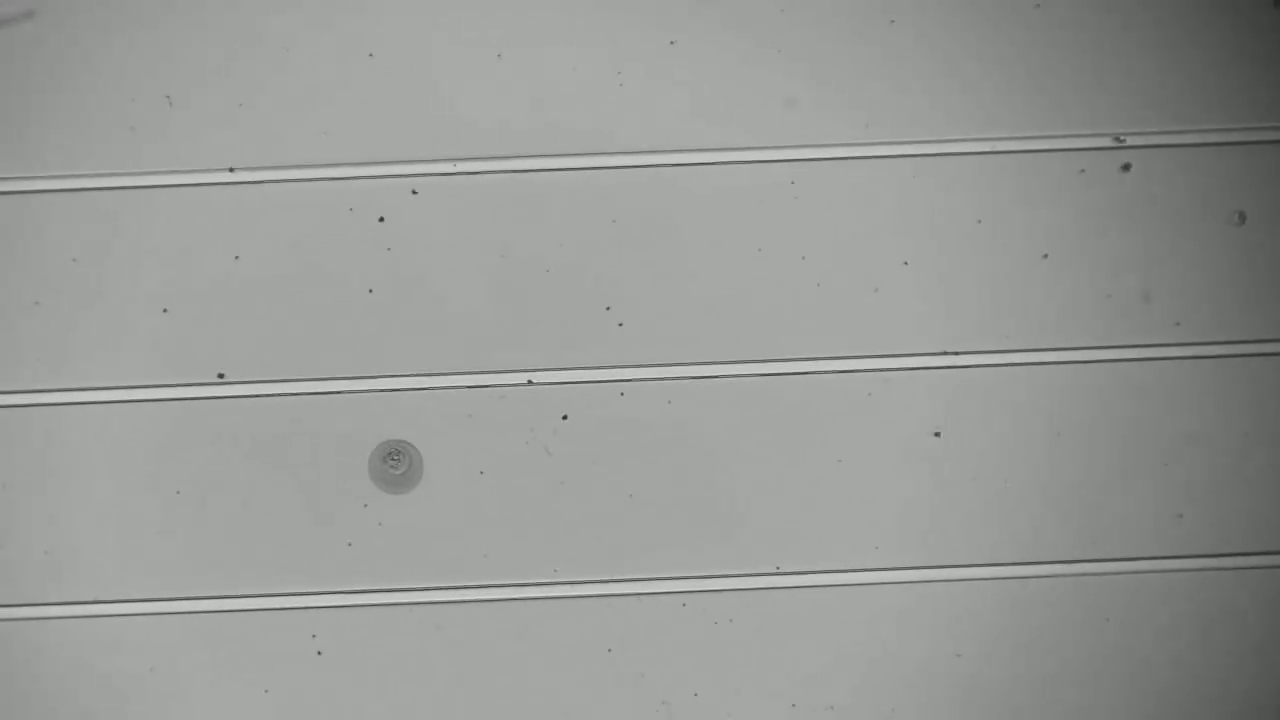stains_enbedded: (1112, 127, 1132, 153)
